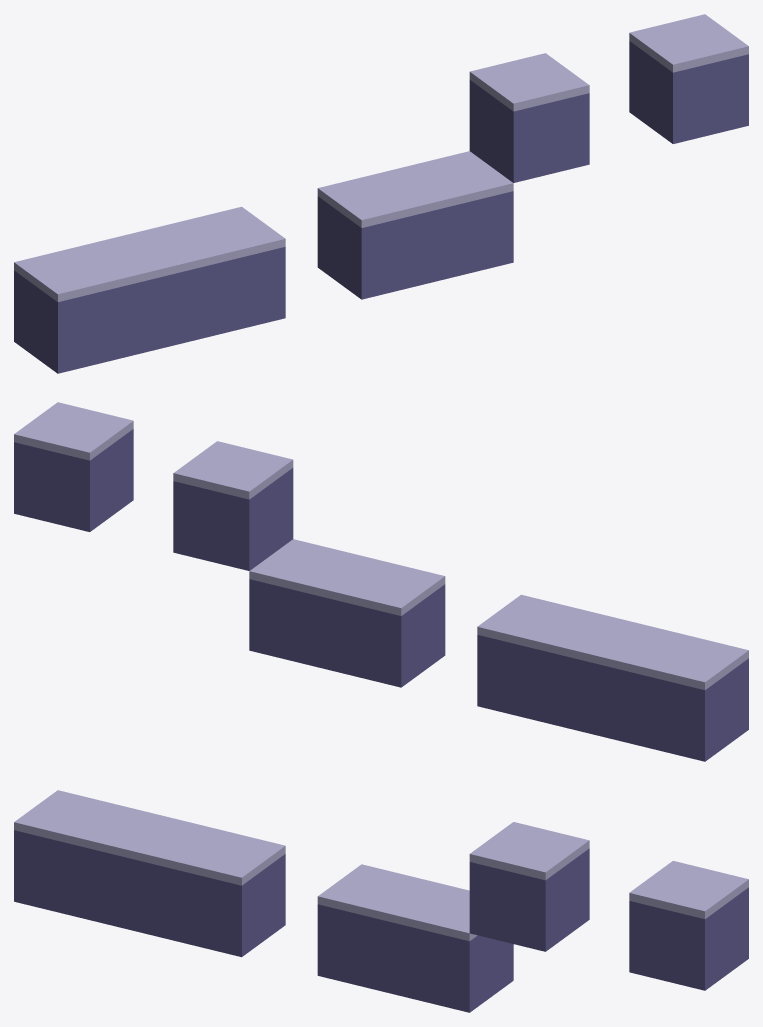
File: platformer.glb
3 views of the same model, one above another, from view 1: azimuth 30°, elevation 25°; view 2: azimuth 150°, elevation 25°; view 3: azimuth 330°, elevation 25° (orthographic).
Visible parts, largest first — view 1: floor (×7); view 2: floor (×7); view 3: floor (×7).
Boxes of the visible parts, <box> form: floor (×7): <box>14,14,748,373</box>; floor (×7): <box>14,402,748,761</box>; floor (×7): <box>14,790,748,1012</box>.
Size of the model in its own units: 9.1 by 2 by 1.
